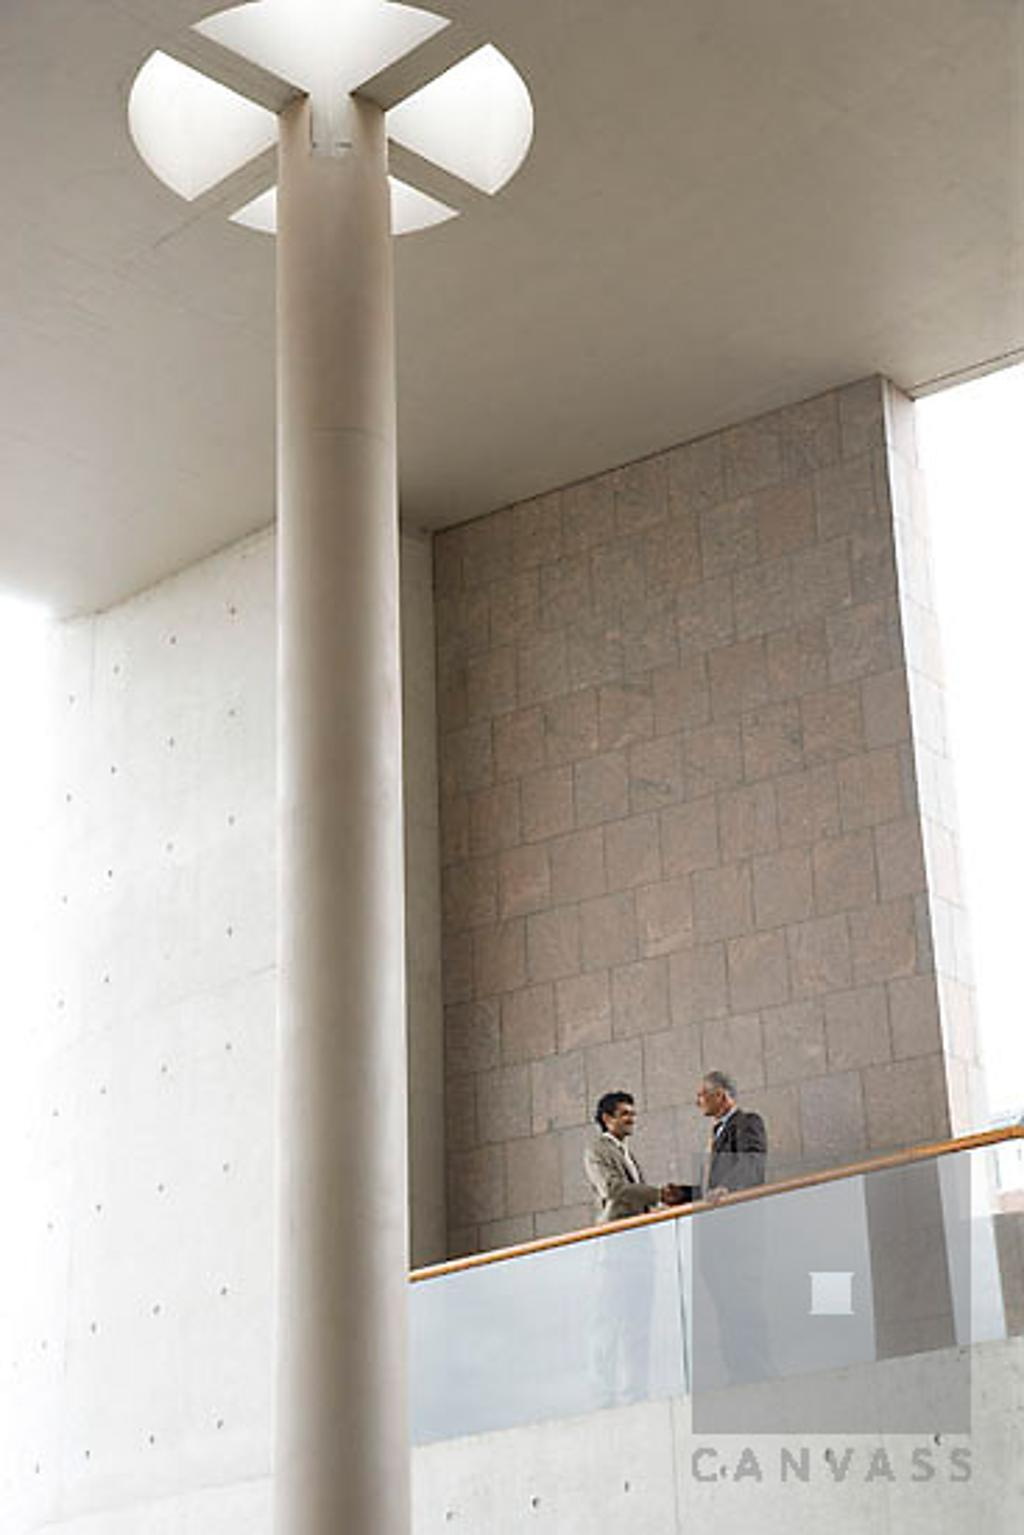face: (609, 1102, 635, 1135), (695, 1080, 716, 1114)
